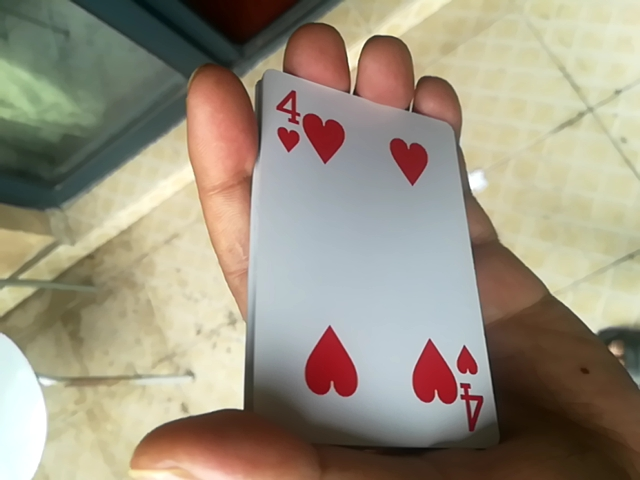hx 4: (249, 78, 494, 462)
